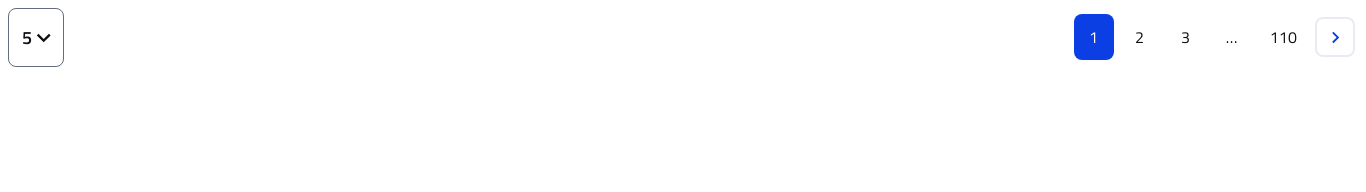
Scenario: MIPagination › itemsPerPageOptions › renders the custom options passed in itemsPerPageOptions.options
Press the mouse on the dropdown with id "items-per-page-select": [27, 37] box [22, 24, 32, 50]
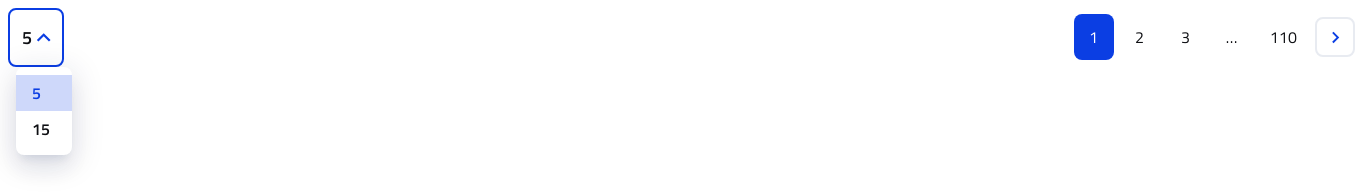
Check: the option "5" is shown, box [16, 75, 72, 111]
Check: the option "15" is shown, box [32, 117, 50, 141]
